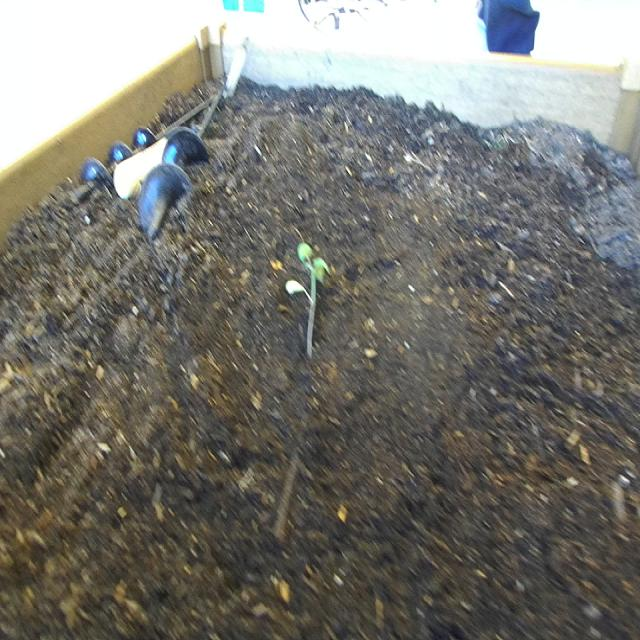Healthy: (281, 228, 335, 368)
